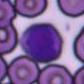L: (20, 23, 62, 63)
